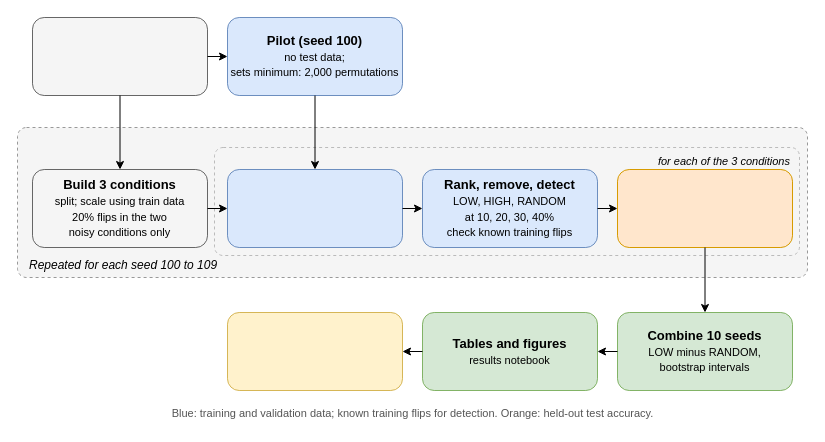
Image size: 825x442. Some labels were removed from this diagram. The shapes that lost their labels are listed below. From the top down, each one's centre as x and y in pixels, then its label:
point 120,56: Raw data Penguins CSV; Gaussian data generated from each seed
point 314,208: Shapley values random permutations; adapted convergence rule
point 704,208: Retrain 3-NN, test held-out test accuracy after removal
point 314,351: Checks unit tests; regenerate orders, recompute removal outcomes
